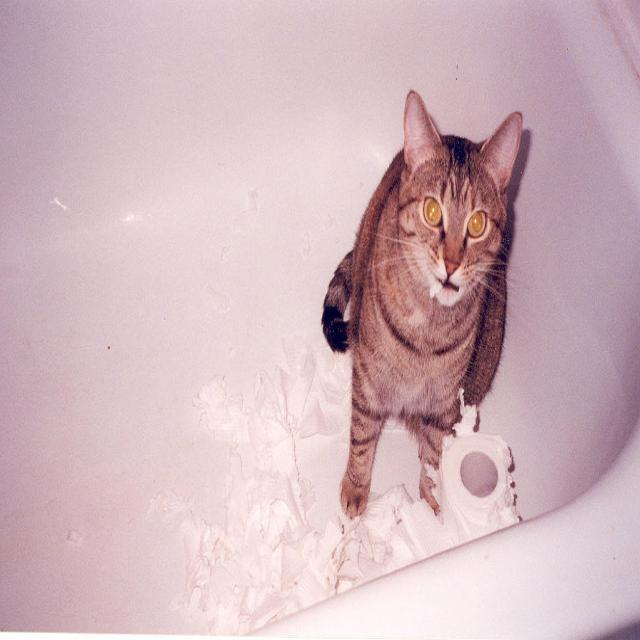left eye: (466, 208, 488, 239)
